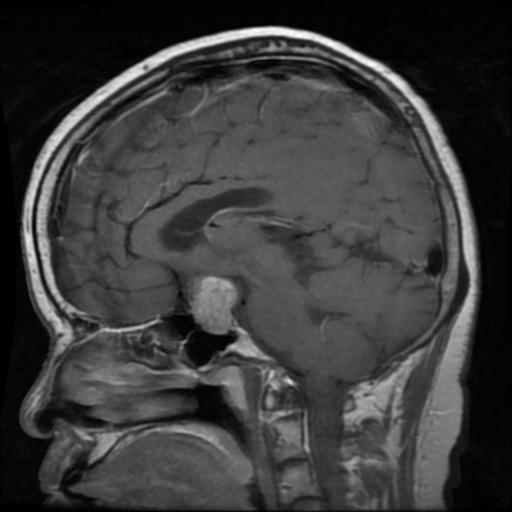Pituirity_tumour: (188, 276, 235, 335)
